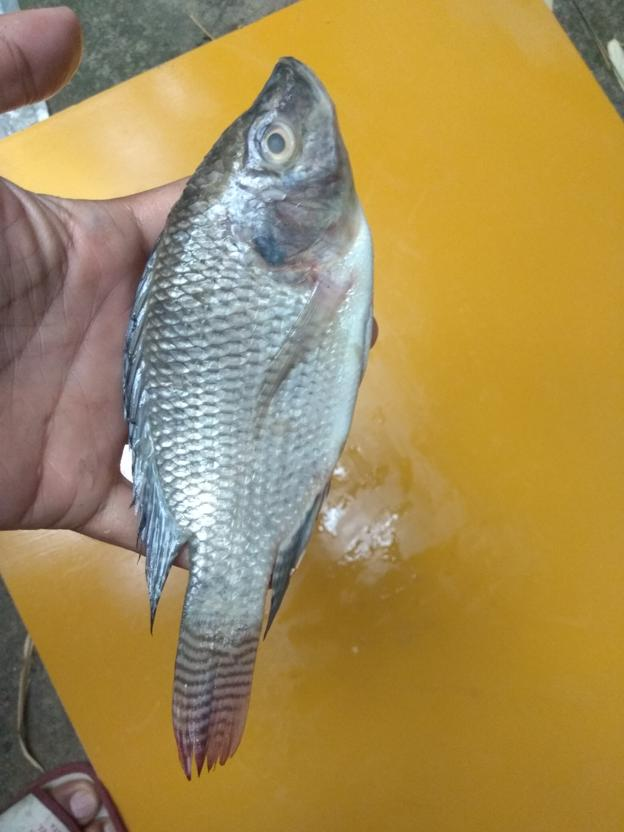Fish head: (186, 54, 373, 273)
Fish tail: (169, 610, 265, 784)
